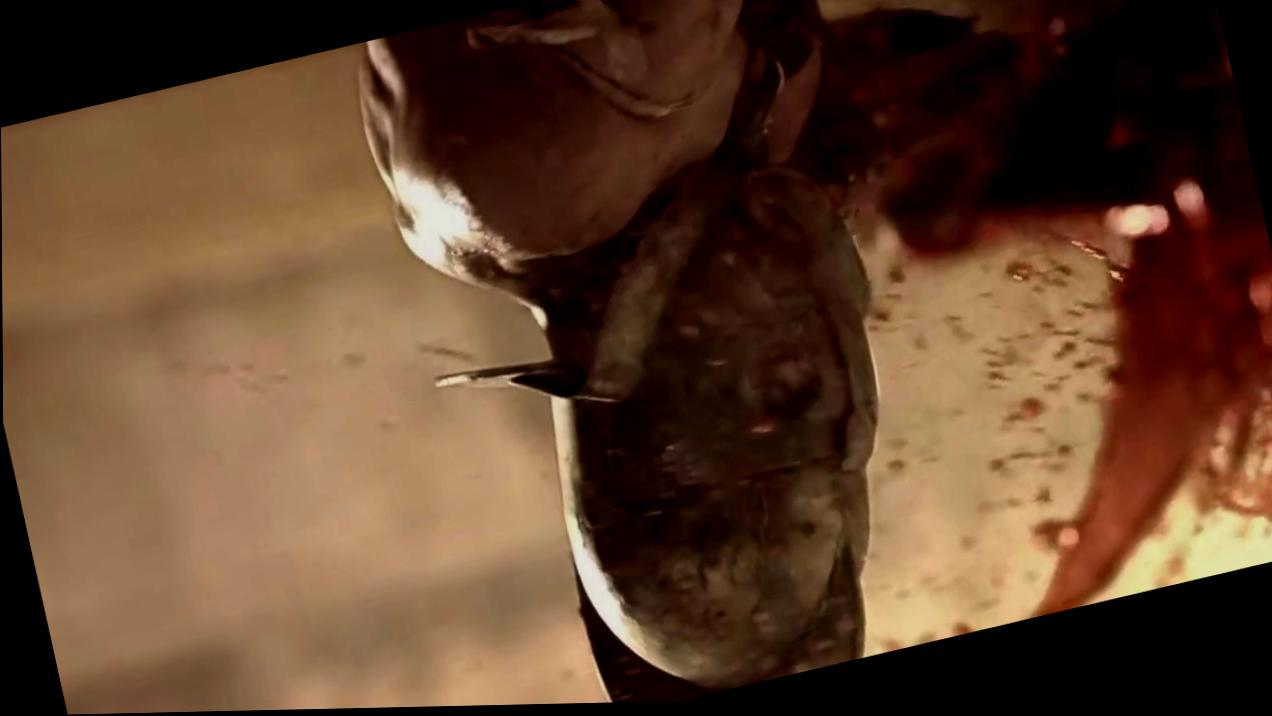Fire: (798, 0, 1272, 659)
